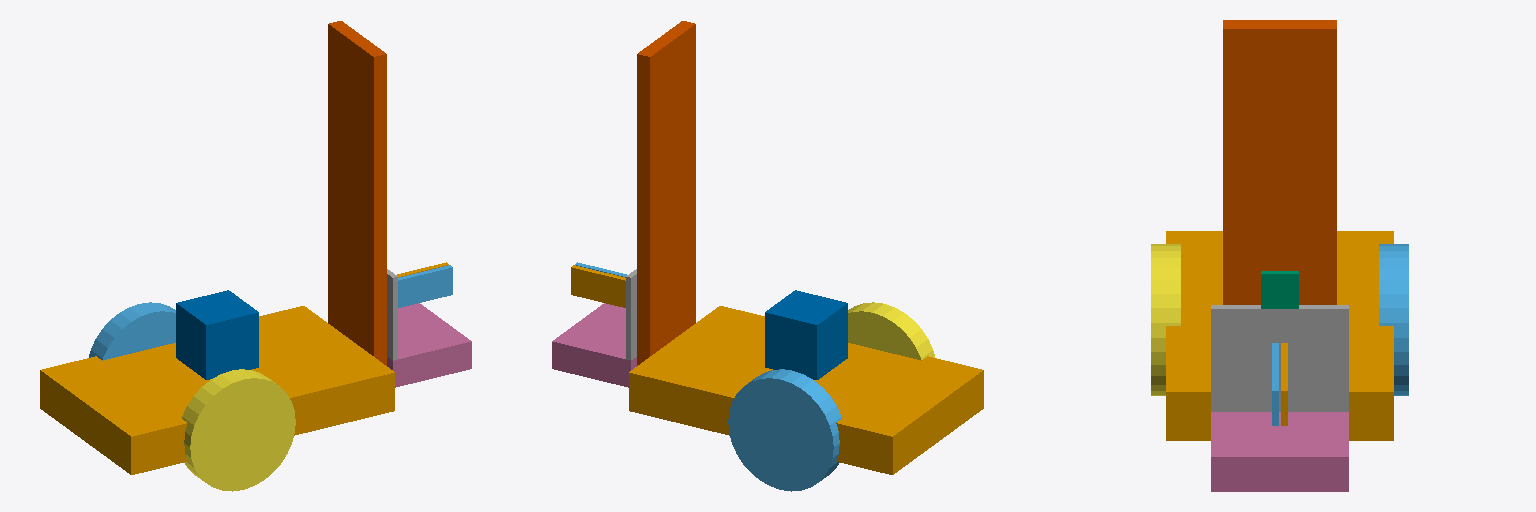
robot.urdf — lib_bot:
<?xml version="1.0" ?>
<robot name="lib_bot">

   <link name="base_link">
    <!-- pose and inertial -->
    <pose>0 0 0.1 0 0 0</pose>
    
    <inertial>
      <mass value="5"/>
      <origin rpy="0 0 0" xyz="0 0 0.1"/>
      <inertia ixx="0.0395416666667" ixy="0" ixz="0" iyy="0.106208333333" iyz="0" izz="0.106208333333"/>
    </inertial>
    
    <collision name="collision_chassis">
      <geometry>
        <box size="0.5 0.3 0.07"/>
      </geometry>
    </collision>
    
    <visual>
      <origin rpy="0 0 0" xyz="0 0 0"/>
      <geometry>
        <box size="0.5 0.3 0.07"/>
      </geometry>
      <material name="blue"/>
    </visual>
    
    <!-- caster front -->
    <collision name="caster_front_collision">
      <origin rpy=" 0 0 0" xyz="0.35 0 -0.05"/>
      <geometry>
        <sphere radius="0.05"/>
      </geometry>
      <surface>
        <friction>
          <ode>
            <mu>0</mu>
            <mu2>0</mu2>
            <slip1>0.0</slip1>
            <slip2>0.0</slip2>
          </ode>
        </friction>
      </surface>
    </collision>
    <visual name="caster_front_visual">
      <origin rpy=" 0 0 0" xyz="0.2 0 -0.05"/>
      <geometry>
        <sphere radius="0.05"/>
      </geometry>
    </visual>
    </link>
    
     <!-- Create wheel right -->  
    
  <link name="link_right_wheel">    
    <!-- inertial>
      <mass value="0.2"/>
      <origin rpy="0 1.5707 1.5707" xyz="0 0 0"/>
      <inertia ixx="0.00052666666" ixy="0" ixz="0" iyy="0.00052666666" iyz="0" izz="0.001"/>
    </inertial -->
      <inertial>
            <origin xyz="0 0 0" rpy="0 0 0"/>
            <mass value="0.5" />
            <inertia ixx="0.0014541666666666665" ixy="0.0" ixz="0.0" iyy="0.0010416666666666667" iyz="0.0" izz="0.0022874999999999996"/>
        </inertial>
    
    <collision name="link_right_wheel_collision">
      <origin rpy="0 1.5707 1.5707" xyz="0 0 0" />
      <geometry>
        <cylinder length="0.04" radius="0.1"/>
      </geometry>
    </collision>
    
    <visual name="link_right_wheel_visual">
      <origin rpy="0 1.5707 1.5707" xyz="0 0 0"/>
      <geometry>
        <cylinder length="0.04" radius="0.1"/>
      </geometry>      
    </visual>
    
  </link>
  
   <link name="camera">


    <visual>
      <origin xyz="0 0 0" rpy="0 0 0"/>
      <geometry>
        <box size="0.01 0.05 0.05"/>
      </geometry>
    </visual>
    <collision>
      <origin xyz="0 0 0" rpy="0 0 0"/>
      <geometry>
        <box size="0.05 0.05 0.05"/>
      </geometry>
    </collision>
    <inertial>
            <origin xyz="0 0 0" rpy="0 0 0" />
            <mass value="0.05" />
            <inertia ixx="4.166666666666667e-05" ixy="0.0" ixz="0.0" iyy="2.166666666666667e-05" iyz="0.0" izz="2.166666666666667e-05" />
    </inertial>


  </link>
  
   <!--   Joint for right wheel  -->
  <joint name="joint_right_wheel" type="continuous">
    <origin rpy="0 0 0" xyz="-0.05 0.15 0"/>
    <child link="link_right_wheel" />
    <parent link="base_link"/>
    <axis rpy="0 0 0" xyz="0 1 0"/>
    <limit effort="10000" velocity="1000"/>
    <joint_properties damping="1.0" friction="1.0" />
  </joint>  
    
  <!-- Left Wheel link -->
    
  <link name="link_left_wheel">    
    <!-- inertial>
      <mass value="0.2"/>
      <origin rpy="0 1.5707 1.5707" xyz="0 0 0"/>
      <inertia ixx="0.00052666666" ixy="0" ixz="0" iyy="0.00052666666" iyz="0" izz="0.001"/>
    </inertial -->
     <inertial>
            <origin xyz="0 0 0" rpy="0 0 0"/>
            <mass value="0.5" />
            <inertia ixx="0.0014541666666666665" ixy="0.0" ixz="0.0" iyy="0.0010416666666666667" iyz="0.0" izz="0.0022874999999999996"/>
        </inertial>
    
    <collision name="link_left_wheel_collision">
      <origin rpy="0 1.5707 1.5707" xyz="0 0 0" />
      <geometry>
        <cylinder length="0.04" radius="0.1"/>
      </geometry>
    </collision>
    
    <visual name="link_left_wheel_visual">
      <origin rpy="0 1.5707 1.5707" xyz="0 0 0"/>
      <geometry>
        <cylinder length="0.04" radius="0.1"/>
      </geometry>      
    </visual>
    
  </link>
  
  <link name="hokuyo">
    <collision>
      <origin xyz="0 0 0" rpy="0 0 0"/>
      <geometry>
    <box size="0.1 0.1 0.1"/>
      </geometry>
    </collision>

    <visual>
      <origin xyz="0 0 0" rpy="0 0 0"/>
      <geometry>
        <box size="0.1 0.1 0.1"/>
      </geometry>
    </visual>

    <inertial>
      <mass value="1e-5" />
      <origin xyz="0 0 0" rpy="0 0 0"/>
      <inertia ixx="1e-6" ixy="0" ixz="0" iyy="1e-6" iyz="0" izz="1e-6" />
    </inertial>
  </link>

    
  <!--   Joint for right wheel  -->
  <joint name="joint_left_wheel" type="continuous">
    <origin rpy="0 0 0" xyz="-0.05 -0.15 0"/>
    <child link="link_left_wheel" />
    <parent link="base_link"/>
    <axis rpy="0 0 0" xyz="0 1 0"/>
    <limit effort="10000" velocity="1000"/>
    <joint_properties damping="1.0" friction="1.0" />
  </joint>    
  
  
    <link name="tower_link">
        <visual>
            <origin rpy="0 0 0" xyz="0 0 0.275" />
            <geometry>
                <box size="0.025 0.15 0.60" />
            </geometry>
        </visual>
        <collision>
            <origin xyz="0 0 0.275" rpy="0 0 0" />
            <geometry>
                <box size="0.025 0.15 0.60" />
            </geometry>
        </collision>
        
<inertial>
            <origin xyz="0 0 0.275" rpy="0 0 0" />
            <mass value="10" />
            <inertia ixx="0.31875000000000003" ixy="0.0" ixz="0.0" iyy="0.300520833333" iyz="0.0" izz="0.0192708333333" />
        </inertial>

    </link>
    <link name="elevtor_link">
        <visual>
            <origin rpy="0 0 0" xyz="0 0 0" />
            <geometry>
                <box size="0.15 0.18 0.05" />
            </geometry>
        </visual>
        <collision>
            <origin xyz="0 0 0" rpy="0 0 0" />
            <geometry>
                <box size="0.15 0.18 0.05" />
            </geometry>
        </collision>
        
<inertial>
            <origin xyz="0 0 0" rpy="0 0 0" />
            <mass value="0.5" />
            <inertia ixx="0.0014541666666666665" ixy="0.0" ixz="0.0" iyy="0.0010416666666666667" iyz="0.0" izz="0.0022874999999999996" />
        </inertial>

    </link>
    <link name="push_link">
        <visual>
            <origin rpy="0 0 0" xyz="0 0 0" />
            <geometry>
                <box size="0.01 0.18 0.15" />
            </geometry>
        </visual>
        <collision>
            <origin xyz="0 0 0" rpy="0 0 0" />
            <geometry>
                <box size="0.01 0.18 0.15" />
            </geometry>
        </collision>
        
<inertial>
            <origin xyz="0 0 0" rpy="0 0 0" />
            <mass value="0.05" />
            <inertia ixx="0.0013724999999999998" ixy="0.0" ixz="0.0" iyy="0.0006025" iyz="0.0" izz="0.0008499999999999998" />
        </inertial>

    </link>
    <link name="jaw_1_link">
        <visual>
            <origin rpy="0 0 0" xyz="0 0 0" />
            <geometry>
                <box size="0.15 0.01 0.05" />
            </geometry>
        </visual>
        <collision>
            <origin xyz="0 0 0" rpy="0 0 0" />
            <geometry>
                <box size="0.15 0.01 0.05" />
            </geometry>
        </collision>
        
<inertial>
            <origin xyz="0 0 0" rpy="0 0 0" />
            <mass value="0.05" />
            <inertia ixx="0.0013724999999999998" ixy="0.0" ixz="0.0" iyy="0.0006025" iyz="0.0" izz="0.0008499999999999998" />
        </inertial>

    </link>
    <link name="jaw_2_link">
        <visual>
            <origin rpy="0 0 0" xyz="0 0 0" />
            <geometry>
                <box size="0.15 0.01 0.05" />
            </geometry>
        </visual>
        <collision>
            <origin xyz="0 0 0" rpy="0 0 0" />
            <geometry>
                <box size="0.15 0.01 0.05" />
            </geometry>
        </collision>
        
<inertial>
            <origin xyz="0 0 0" rpy="0 0 0" />
            <mass value="0.05" />
            <inertia ixx="0.0013724999999999998" ixy="0.0" ixz="0.0" iyy="0.0006025" iyz="0.0" izz="0.0008499999999999998" />
        </inertial>

    </link>
    
  
  
    <!-- JOINTS -->
    <joint name="base_link_tower_link_joint" type="fixed">
        <origin xyz="0.265 0 0" rpy="0 0 0" />
        <parent link="base_link" />
        <child link="tower_link" />
    </joint>
    <joint name="tower_link_elevtor_link_joint" type="prismatic">
        <axis xyz="0 0 1" />
        <parent link="tower_link" />
        <child link="elevtor_link" />
        <limit effort="1000.0" lower="0" upper="0.55" velocity="0.2" />
        <origin rpy="0 0 0" xyz="0.090 0 0" />
    </joint>
    <joint name="elevtor_link_push_link_joint" type="prismatic">
        <axis xyz="1 0 0" />
        <parent link="elevtor_link" />
        <child link="push_link" />
        <limit effort="1000.0" lower="0" upper="0.14" velocity="0.2" />
        <origin rpy="0 0 0" xyz="-0.070 0 0.1" />
    </joint>
    <joint name="push_link_jaw_1_joint" type="prismatic">
        <axis xyz="0 1 0" />
        <parent link="push_link" />
        <child link="jaw_1_link" />
        <limit effort="1000.0" lower="0" upper="0.075" velocity="0.2" />
        <origin rpy="0 0 0" xyz="0.080 0.006 0" />
    </joint>
    <joint name="push_link_jaw_2_joint" type="prismatic">
        <axis xyz="0 1 0" />
        <parent link="push_link" />
        <child link="jaw_2_link" />
        <limit effort="1000.0" lower="-0.075" upper="0" velocity="0.2" />
        <origin rpy="0 0 0" xyz="0.080 -0.006 0" />
    </joint>
      <joint name="camera_joint" type="fixed">
        <axis xyz="0 1 0" />
        <origin xyz="0 0 0.1" rpy="0 0 0"/>
        <parent link="push_link"/>
        <child link="camera"/>
  </joint>
  
  <joint name="hokuyo_joint" type="fixed">
    <axis xyz="0 1 0" />
    <origin xyz="0 0 .1" rpy="0 0 3.14"/>
    <parent link="base_link"/>
    <child link="hokuyo"/>
  </joint>
    
<transmission name="trans_tower_link_elevtor_link_joint">
        <type>transmission_interface/SimpleTransmission</type>
        <joint name="tower_link_elevtor_link_joint">
            <hardwareInterface>hardware_interface/EffortJointInterface</hardwareInterface>
        </joint>
        <actuator name="tower_link_elevtor_link_joint_motor">
            <hardwareInterface>hardware_interface/EffortJointInterface</hardwareInterface>
            <mechanicalReduction>1</mechanicalReduction>
        </actuator>
    </transmission>
    <transmission name="trans_elevtor_link_push_link_joint">
        <type>transmission_interface/SimpleTransmission</type>
        <joint name="elevtor_link_push_link_joint">
            <hardwareInterface>hardware_interface/EffortJointInterface</hardwareInterface>
        </joint>
        <actuator name="elevtor_link_push_link_joint_motor">
            <hardwareInterface>hardware_interface/EffortJointInterface</hardwareInterface>
            <mechanicalReduction>1</mechanicalReduction>
        </actuator>
    </transmission>
    <transmission name="trans_push_link_jaw_1_joint">
        <type>transmission_interface/SimpleTransmission</type>
        <joint name="push_link_jaw_1_joint">
            <hardwareInterface>hardware_interface/EffortJointInterface</hardwareInterface>
        </joint>
        <actuator name="push_link_jaw_1_joint_motor">
            <hardwareInterface>hardware_interface/EffortJointInterface</hardwareInterface>
            <mechanicalReduction>1</mechanicalReduction>
        </actuator>
    </transmission>
    <transmission name="trans_push_link_jaw_2_joint">
        <type>transmission_interface/SimpleTransmission</type>
        <joint name="push_link_jaw_2_joint">
            <hardwareInterface>hardware_interface/EffortJointInterface</hardwareInterface>
        </joint>
        <actuator name="push_link_jaw_2_joint_motor">
            <hardwareInterface>hardware_interface/EffortJointInterface</hardwareInterface>
            <mechanicalReduction>1</mechanicalReduction>
        </actuator>
    </transmission>
    
    
     <!-- camera -->
     <gazebo reference="camera">
    <sensor type="camera" name="camera1">
      <update_rate>30.0</update_rate>
      <camera name="head">
        <horizontal_fov>1.3962634</horizontal_fov>
        <image>
          <width>800</width>
          <height>800</height>
          <format>R8G8B8</format>
        </image>
        <clip>
          <near>0.02</near>
          <far>300</far>
        </clip>
      </camera>
      <plugin name="camera_controller" filename="libgazebo_ros_camera.so">
        <alwaysOn>true</alwaysOn>
        <updateRate>0.0</updateRate>
        <cameraName>lib_bot/camera</cameraName>
        <imageTopicName>image_raw</imageTopicName>
        <cameraInfoTopicName>camera_info</cameraInfoTopicName>
        <frameName>camera</frameName>
        <hackBaseline>0.07</hackBaseline>
        <distortionK1>0.0</distortionK1>
        <distortionK2>0.0</distortionK2>
        <distortionK3>0.0</distortionK3>
        <distortionT1>0.0</distortionT1>
        <distortionT2>0.0</distortionT2>
      </plugin>
    </sensor>
  </gazebo>
  
  <gazebo>
    <plugin filename="libgazebo_ros_diff_drive.so" name="differential_drive_controller">
      <alwaysOn>true</alwaysOn>
      <updateRate>20</updateRate>
      <leftJoint>joint_left_wheel</leftJoint>
      <rightJoint>joint_right_wheel</rightJoint>
      <wheelSeparation>0.4</wheelSeparation>
      <wheelDiameter>0.2</wheelDiameter>
      <torque>0.1</torque>
      <commandTopic>cmd_vel</commandTopic>
      <odometryTopic>odom</odometryTopic>
      <odometryFrame>odom</odometryFrame>
      <robotBaseFrame>base_link</robotBaseFrame>
    </plugin>
  </gazebo>
  
  
  <gazebo reference="hokuyo">
    <sensor type="gpu_ray" name="head_hokuyo_sensor">
      <pose>0 0 0 0 0 0</pose>
      <visualize>true</visualize>
      <update_rate>40</update_rate>
      <ray>
        <scan>
          <horizontal>
            <samples>720</samples>
            <resolution>1</resolution>
            <min_angle>-2.57</min_angle>
            <max_angle>2.57</max_angle>
          </horizontal>
        </scan>
        <range>
          <min>0.10</min>
          <max>30.0</max>
          <resolution>0.01</resolution>
        </range>
        <noise>
          <type>gaussian</type>
          <!-- Noise parameters based on published spec for Hokuyo laser
               achieving "+-30mm" accuracy at range < 10m.  A mean of 0.0m and
               stddev of 0.01m will put 99.7% of samples within 0.03m of the true
               reading. -->
          <mean>0.0</mean>
          <stddev>0.01</stddev>
        </noise>
      </ray>
      <plugin name="gazebo_ros_head_hokuyo_controller" filename="libgazebo_ros_gpu_laser.so">
        <topicName>/mybot/laser/scan</topicName>
        <frameName>hokuyo</frameName>
      </plugin>
    </sensor>
  </gazebo>

    
  
  <!-- camera -->
  
    <gazebo>
        <plugin name="gazebo_ros_control" filename="libgazebo_ros_control.so">
            <robotNamespace>/</robotNamespace>
        </plugin>
    </gazebo>
</robot>

--- What the picture shows (computed from the rendered views, not written in the file) ---
3 views of the same robot in one strip: view 1: azimuth 30°, elevation 25°; view 2: azimuth 150°, elevation 25°; view 3: azimuth 270°, elevation 25° (orthographic).
Model lib_bot with 10 links and 9 joints (2 continuous, 4 prismatic, 3 fixed), rooted at base_link, posed every joint at zero.
Visible links, largest first — view 1: base_link, tower_link, link_left_wheel, hokuyo, elevtor_link, link_right_wheel, jaw_2_link, push_link; view 2: base_link, tower_link, link_right_wheel, hokuyo, elevtor_link, link_left_wheel, jaw_1_link, push_link; view 3: tower_link, base_link, push_link, elevtor_link, link_right_wheel, link_left_wheel, camera, jaw_1_link, jaw_2_link.
Boxes of the visible links, bbox=[...] form: base_link: bbox=[40, 306, 394, 474]; tower_link: bbox=[328, 21, 386, 365]; link_left_wheel: bbox=[182, 369, 295, 491]; hokuyo: bbox=[176, 290, 258, 379]; elevtor_link: bbox=[387, 303, 471, 387]; link_right_wheel: bbox=[89, 302, 175, 360]; jaw_2_link: bbox=[398, 265, 452, 307]; push_link: bbox=[387, 269, 397, 360]; base_link: bbox=[629, 306, 983, 474]; tower_link: bbox=[637, 21, 695, 365]; link_right_wheel: bbox=[728, 369, 841, 491]; hokuyo: bbox=[765, 290, 847, 379]; elevtor_link: bbox=[552, 303, 636, 387]; link_left_wheel: bbox=[848, 302, 934, 360]; jaw_1_link: bbox=[571, 265, 625, 307]; push_link: bbox=[626, 269, 636, 360]; tower_link: bbox=[1223, 20, 1336, 304]; base_link: bbox=[1166, 231, 1393, 440]; push_link: bbox=[1211, 305, 1348, 411]; elevtor_link: bbox=[1211, 412, 1348, 491]; link_right_wheel: bbox=[1379, 244, 1408, 395]; link_left_wheel: bbox=[1151, 244, 1180, 395]; camera: bbox=[1261, 271, 1298, 308]; jaw_1_link: bbox=[1281, 343, 1287, 425]; jaw_2_link: bbox=[1272, 343, 1278, 425].
Size in the robot's own frame: 0.69 by 0.34 by 0.675 metres.
Geometry: primitives only (box / cylinder / sphere), no mesh files.